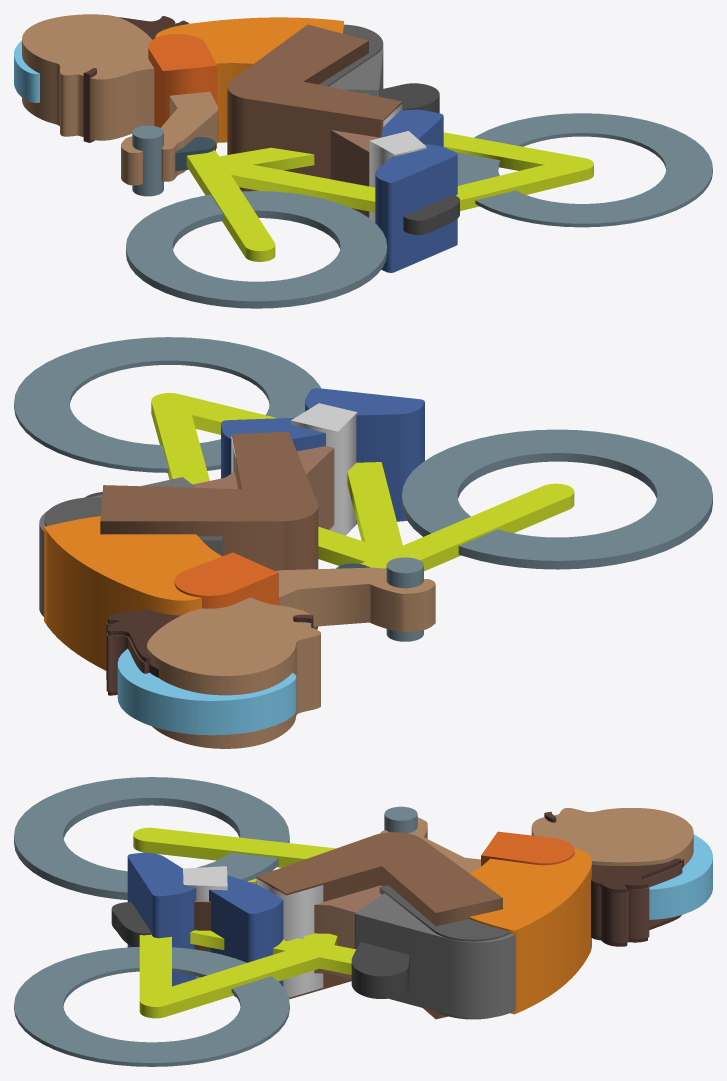
The model's file is emoji_u1f6b4_1f3fd.glb.
3 views of the same model, one above another, from view 1: azimuth 30°, elevation 25°; view 2: azimuth 150°, elevation 25°; view 3: azimuth 270°, elevation 25° (orthographic). The views are drawn at different scales.
Parts seen in each view (by area): view 1: emoji_u1f6b4_1f3fd; view 2: emoji_u1f6b4_1f3fd; view 3: emoji_u1f6b4_1f3fd.
Boxes of the visible parts, x1=… form: emoji_u1f6b4_1f3fd: x1=14, y1=14, x2=712, y2=308; emoji_u1f6b4_1f3fd: x1=14, y1=337, x2=712, y2=748; emoji_u1f6b4_1f3fd: x1=14, y1=777, x2=712, y2=1066.
Size of the model in its own units: 0.0321 by 0.0056 by 0.0334.
